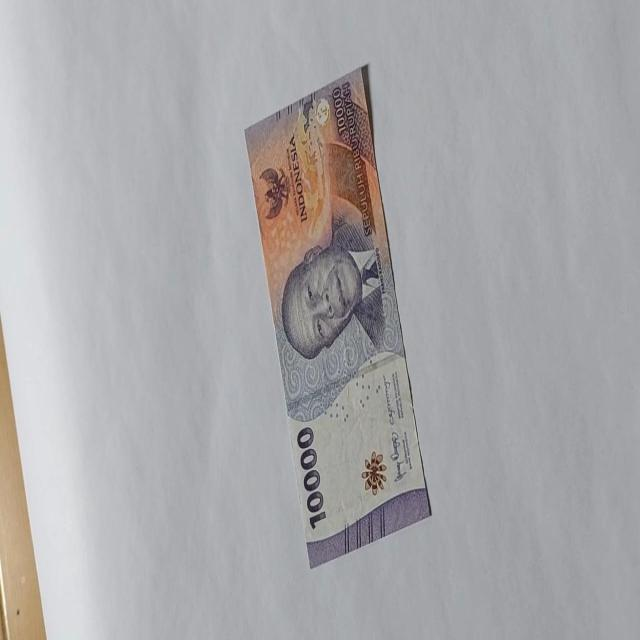Kertas: (242, 62, 432, 569)
